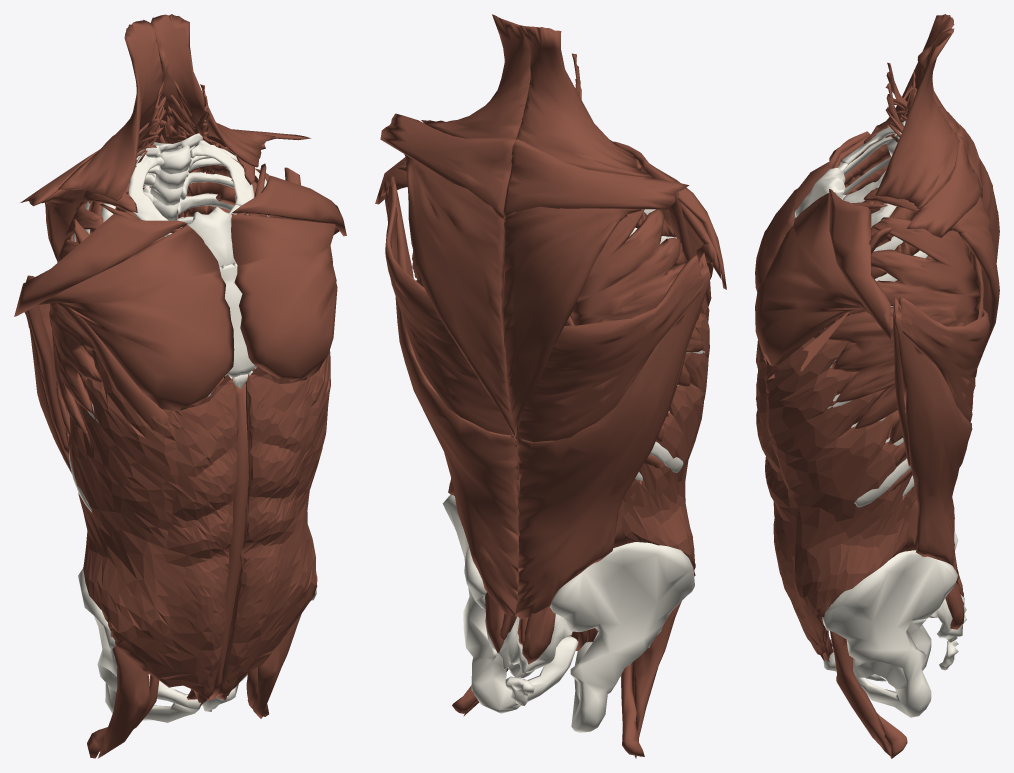
Rendered from torso.glb.
3 renders of one model, left to right at view 1: azimuth 30°, elevation 25°; view 2: azimuth 150°, elevation 25°; view 3: azimuth 270°, elevation 25°, orthographic. The views are drawn at different scales.
Parts seen in each view (by area): view 1: External abdominal oblique muscle.012, External abdominal oblique muscle, Sternocostal head of pectoralis major muscle.007, Sternocostal head of pectoralis major muscle.006, Ascending part of trapezius muscle.005, Clavicular head of pectoralis major muscle.001, Serratus anterior muscle.001, Ascending part of trapezius muscle.002, Linea alba, Clavicular head of pectoralis major muscle, Latissimus dorsi muscle.005, Hip bone.003 (+17 smaller); view 2: Latissimus dorsi muscle.005, Latissimus dorsi muscle.002, Descending part of trapezius muscle, Hip bone.003, Descending part of trapezius muscle.003, Serratus anterior muscle.001, Ascending part of trapezius muscle.005, External abdominal oblique muscle.012, Transverse part of trapezius muscle.003, Transverse part of trapezius muscle, Hip bone.002, Ascending part of trapezius muscle.002 (+10 smaller); view 3: External abdominal oblique muscle, Latissimus dorsi muscle.002, Serratus anterior muscle, Hip bone.002, Sternocostal head of pectoralis major muscle.006, Ascending part of trapezius muscle.002, Clavicular head of pectoralis major muscle, Transverse part of trapezius muscle, Descending part of trapezius muscle, Sternocostal head of pectoralis major muscle.007, Iliacus muscle, External intercostal muscles (+13 smaller).
Boxes of the visible parts, <box> form: External abdominal oblique muscle.012: <box>68,350,237,688</box>; External abdominal oblique muscle: <box>227,350,330,683</box>; Sternocostal head of pectoralis major muscle.007: <box>38,225,234,411</box>; Sternocostal head of pectoralis major muscle.006: <box>231,214,339,380</box>; Ascending part of trapezius muscle.005: <box>58,20,168,201</box>; Clavicular head of pectoralis major muscle.001: <box>14,213,187,316</box>; Serratus anterior muscle.001: <box>49,190,137,438</box>; Ascending part of trapezius muscle.002: <box>151,14,275,167</box>; Linea alba: <box>207,383,248,700</box>; Clavicular head of pectoralis major muscle: <box>231,175,346,236</box>; Latissimus dorsi muscle.005: <box>24,303,71,473</box>; Hip bone.003: <box>78,567,201,722</box>; Latissimus dorsi muscle.005: <box>515,252,711,619</box>; Latissimus dorsi muscle.002: <box>385,176,518,616</box>; Descending part of trapezius muscle: <box>404,154,516,439</box>; Hip bone.003: <box>550,542,694,732</box>; Descending part of trapezius muscle.003: <box>503,206,641,440</box>; Serratus anterior muscle.001: <box>571,209,703,417</box>; Ascending part of trapezius muscle.005: <box>516,25,651,177</box>; External abdominal oblique muscle.012: <box>622,297,709,569</box>; Transverse part of trapezius muscle.003: <box>503,139,689,219</box>; Transverse part of trapezius muscle: <box>380,113,515,220</box>; Hip bone.002: <box>442,494,578,713</box>; Ascending part of trapezius muscle.002: <box>421,14,530,139</box>; External abdominal oblique muscle: <box>756,338,916,653</box>; Latissimus dorsi muscle.002: <box>893,297,989,584</box>; Serratus anterior muscle: <box>817,187,980,446</box>; Hip bone.002: <box>822,550,957,717</box>; Sternocostal head of pectoralis major muscle.006: <box>755,192,886,366</box>; Ascending part of trapezius muscle.002: <box>875,28,958,208</box>; Clavicular head of pectoralis major muscle: <box>829,189,890,338</box>; Transverse part of trapezius muscle: <box>907,134,982,237</box>; Descending part of trapezius muscle: <box>948,196,999,365</box>; Sternocostal head of pectoralis major muscle.007: <box>755,162,840,291</box>; Iliacus muscle: <box>830,631,890,756</box>; External intercostal muscles: <box>825,200,932,493</box>.
Bounding box in the file's own units: 0.3993 × 0.801 × 0.2562.
